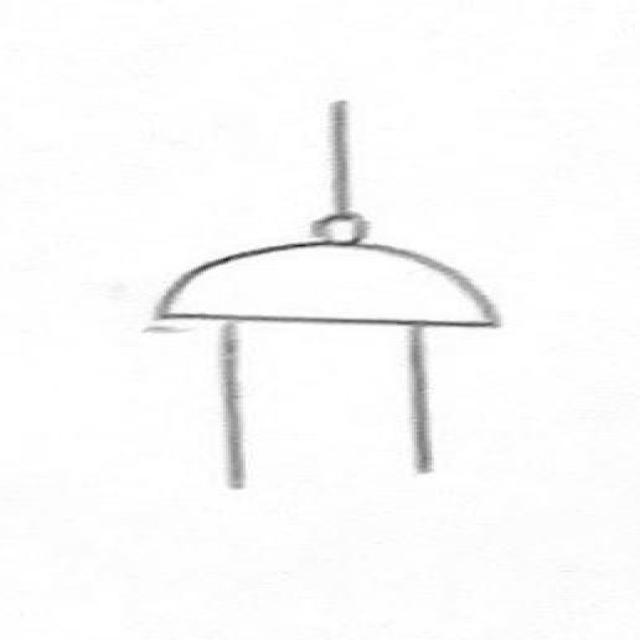NAND: (116, 202, 570, 363)
